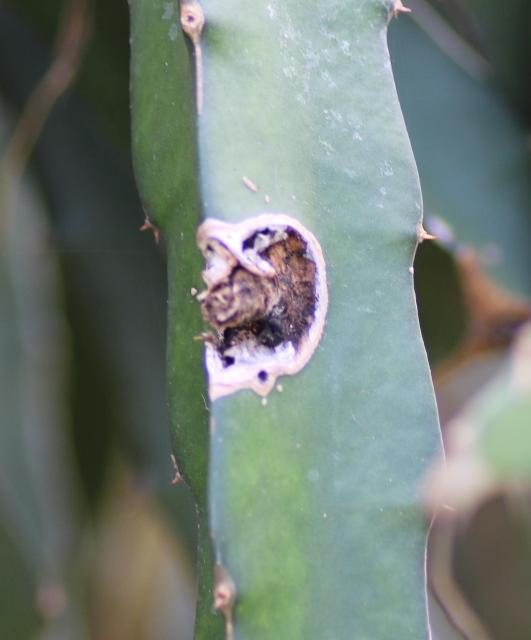stemcanker: (185, 202, 345, 410)
